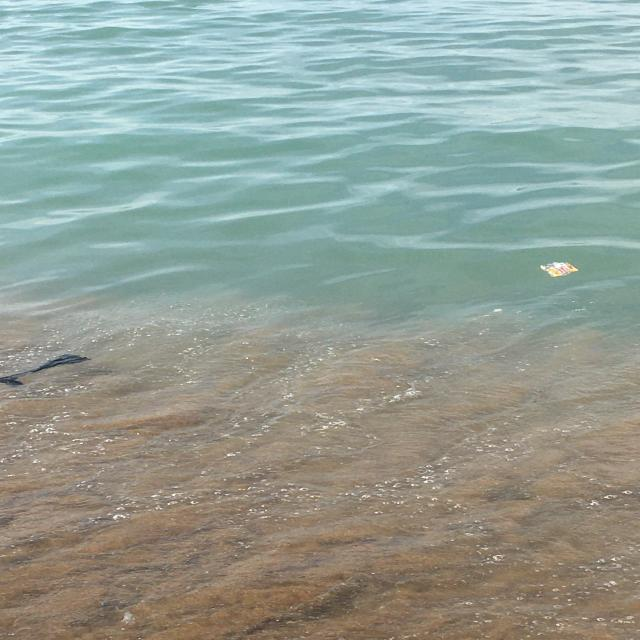Plastic bag: (0, 352, 93, 388)
Plastic packaging: (538, 260, 582, 278)
